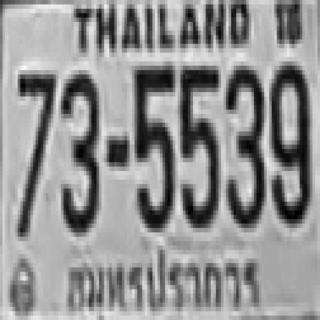N03: (224, 61, 262, 224), (60, 70, 98, 228)
N05: (132, 62, 173, 228), (179, 61, 217, 224)
N07: (15, 68, 53, 234)
N09: (270, 59, 308, 221)
P57: (62, 243, 266, 317)
